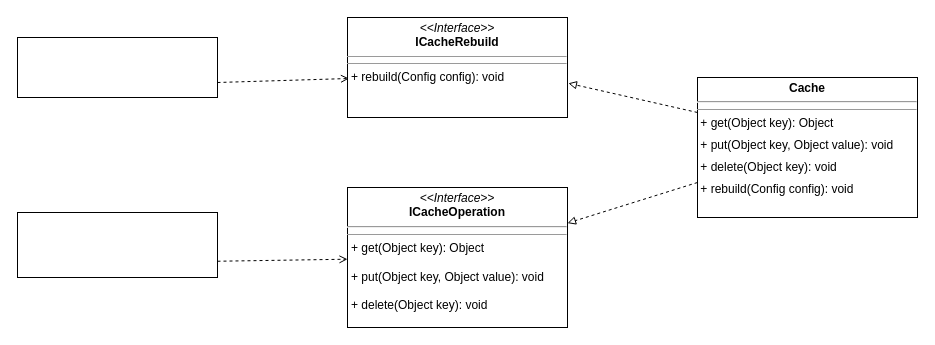
This 935x345 diagram has some shape labels left out. Here are the shapes that lost their labels. From the top down, the box of each, then its label:
(16, 36, 218, 98): CacheRebuildClient + cahceRebuild: ICacheRebuild
(16, 212, 218, 278): CacheOperatonClient + cacheOperation: ICacheOperation
